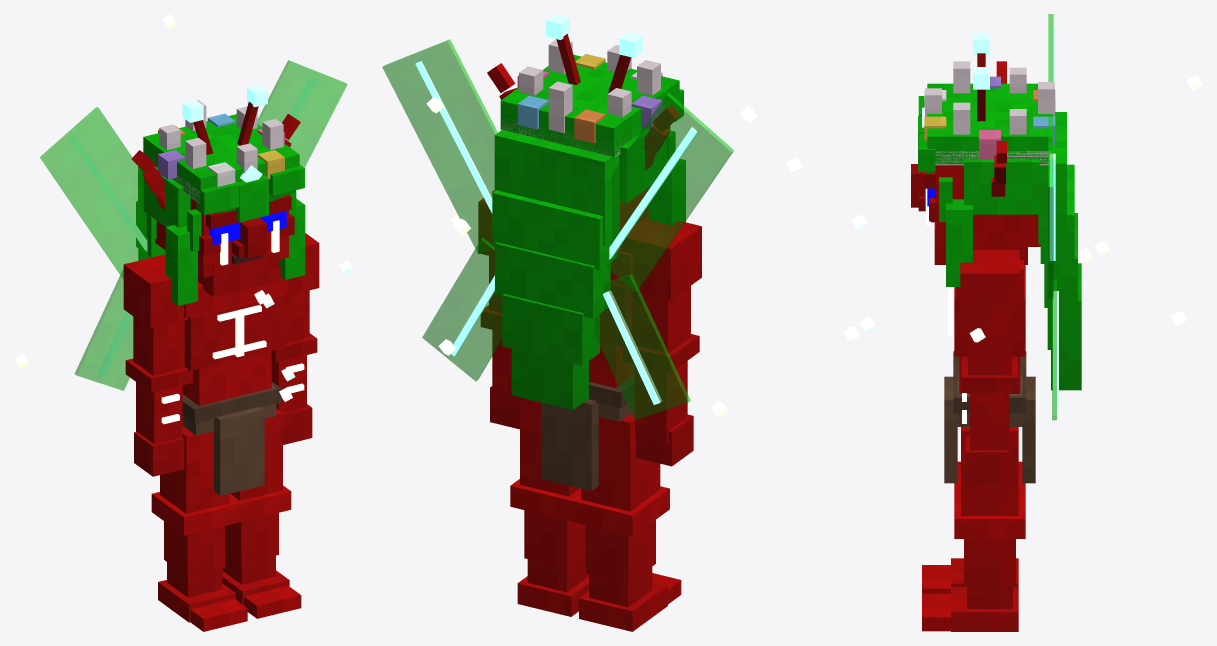
The model's file is fairy_s1_evo1.glb.
3 views of the same model, side by side, from view 1: azimuth 30°, elevation 25°; view 2: azimuth 150°, elevation 25°; view 3: azimuth 270°, elevation 25° (orthographic). The views are drawn at different scales.
Parts seen in each view (by area): view 1: Torso, Head, LegR, ArmR, LegL, ArmL; view 2: Head, Torso, LegR, ArmR, LegL, ArmL; view 3: Head, ArmL, LegL, Torso, LegR.
Boxes of the visible parts, x1=… form: Torso: x1=14, y1=14, x2=353, y2=495; Head: x1=131, y1=84, x2=305, y2=305; LegR: x1=151, y1=426, x2=247, y2=631; ArmR: x1=123, y1=254, x2=192, y2=476; LegL: x1=222, y1=408, x2=301, y2=618; ArmL: x1=271, y1=233, x2=319, y2=444; Head: x1=487, y1=14, x2=685, y2=409; Torso: x1=382, y1=39, x2=757, y2=490; LegR: x1=571, y1=411, x2=681, y2=631; ArmR: x1=620, y1=216, x2=701, y2=466; LegL: x1=510, y1=397, x2=588, y2=616; ArmL: x1=478, y1=190, x2=519, y2=429; Head: x1=911, y1=32, x2=1081, y2=390; ArmL: x1=960, y1=250, x2=1019, y2=485; LegL: x1=922, y1=427, x2=1025, y2=631; Torso: x1=786, y1=14, x2=1202, y2=483; LegR: x1=922, y1=461, x2=1025, y2=593.
Size of the model in its own units: 0.7287 by 1.11 by 0.7622.
Materials: 36 (36 with a texture image).
